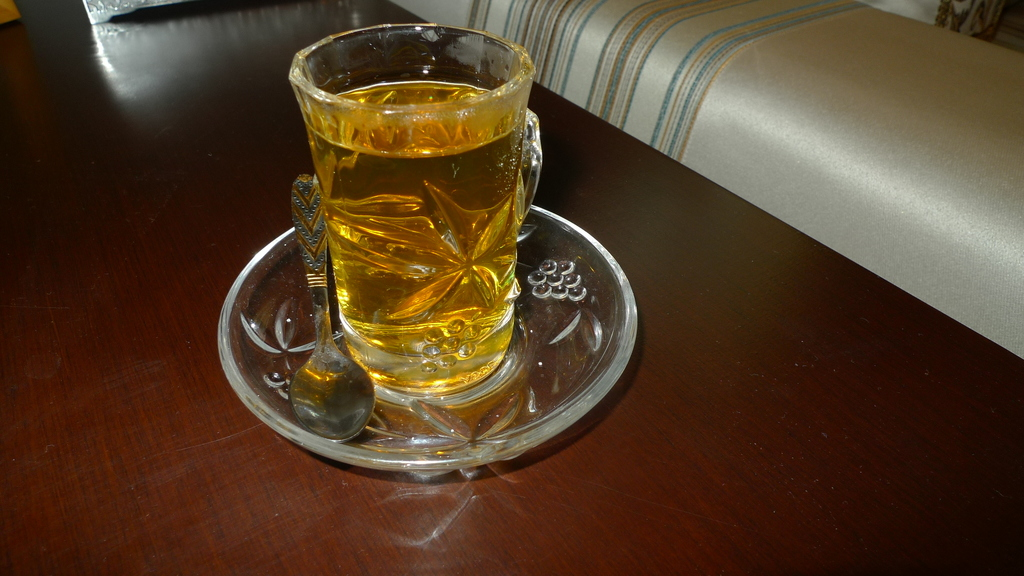Beer: (300, 83, 524, 392)
